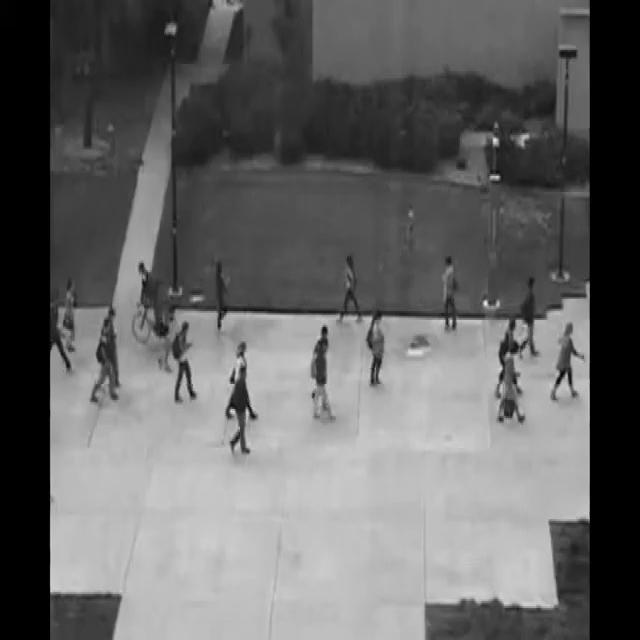anamoly: (115, 260, 192, 358)
